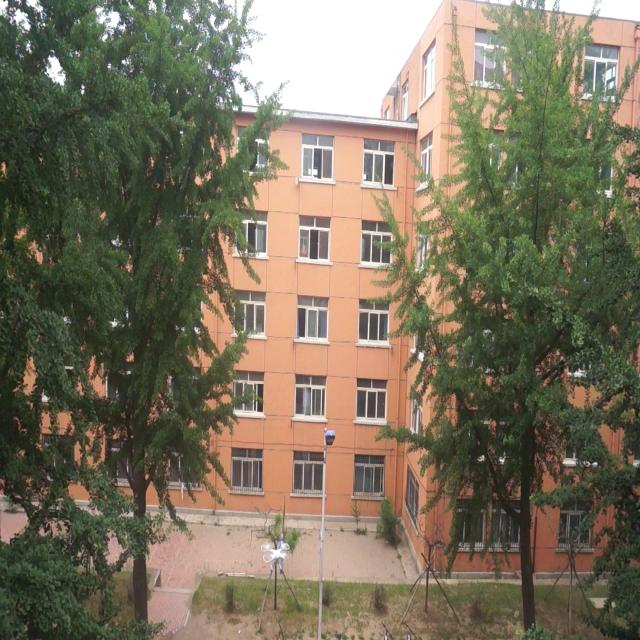drone: (260, 535, 288, 570)
